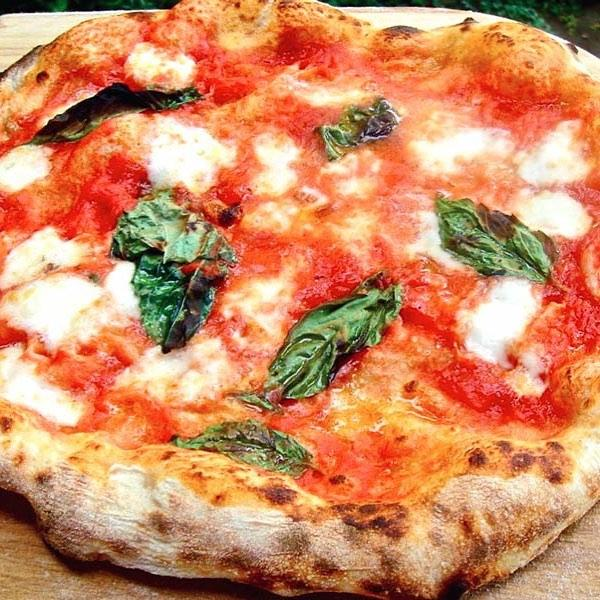Basil: (268, 278, 400, 399), (120, 195, 223, 343), (436, 195, 561, 285), (26, 81, 198, 145), (176, 420, 319, 481), (318, 101, 394, 162)
Cheese: (0, 242, 94, 334), (0, 354, 73, 421), (470, 284, 534, 350), (151, 125, 221, 182), (138, 353, 225, 396), (429, 127, 504, 171), (530, 130, 587, 179), (530, 194, 583, 235), (0, 144, 46, 190)
Pizza: (0, 0, 600, 600)
